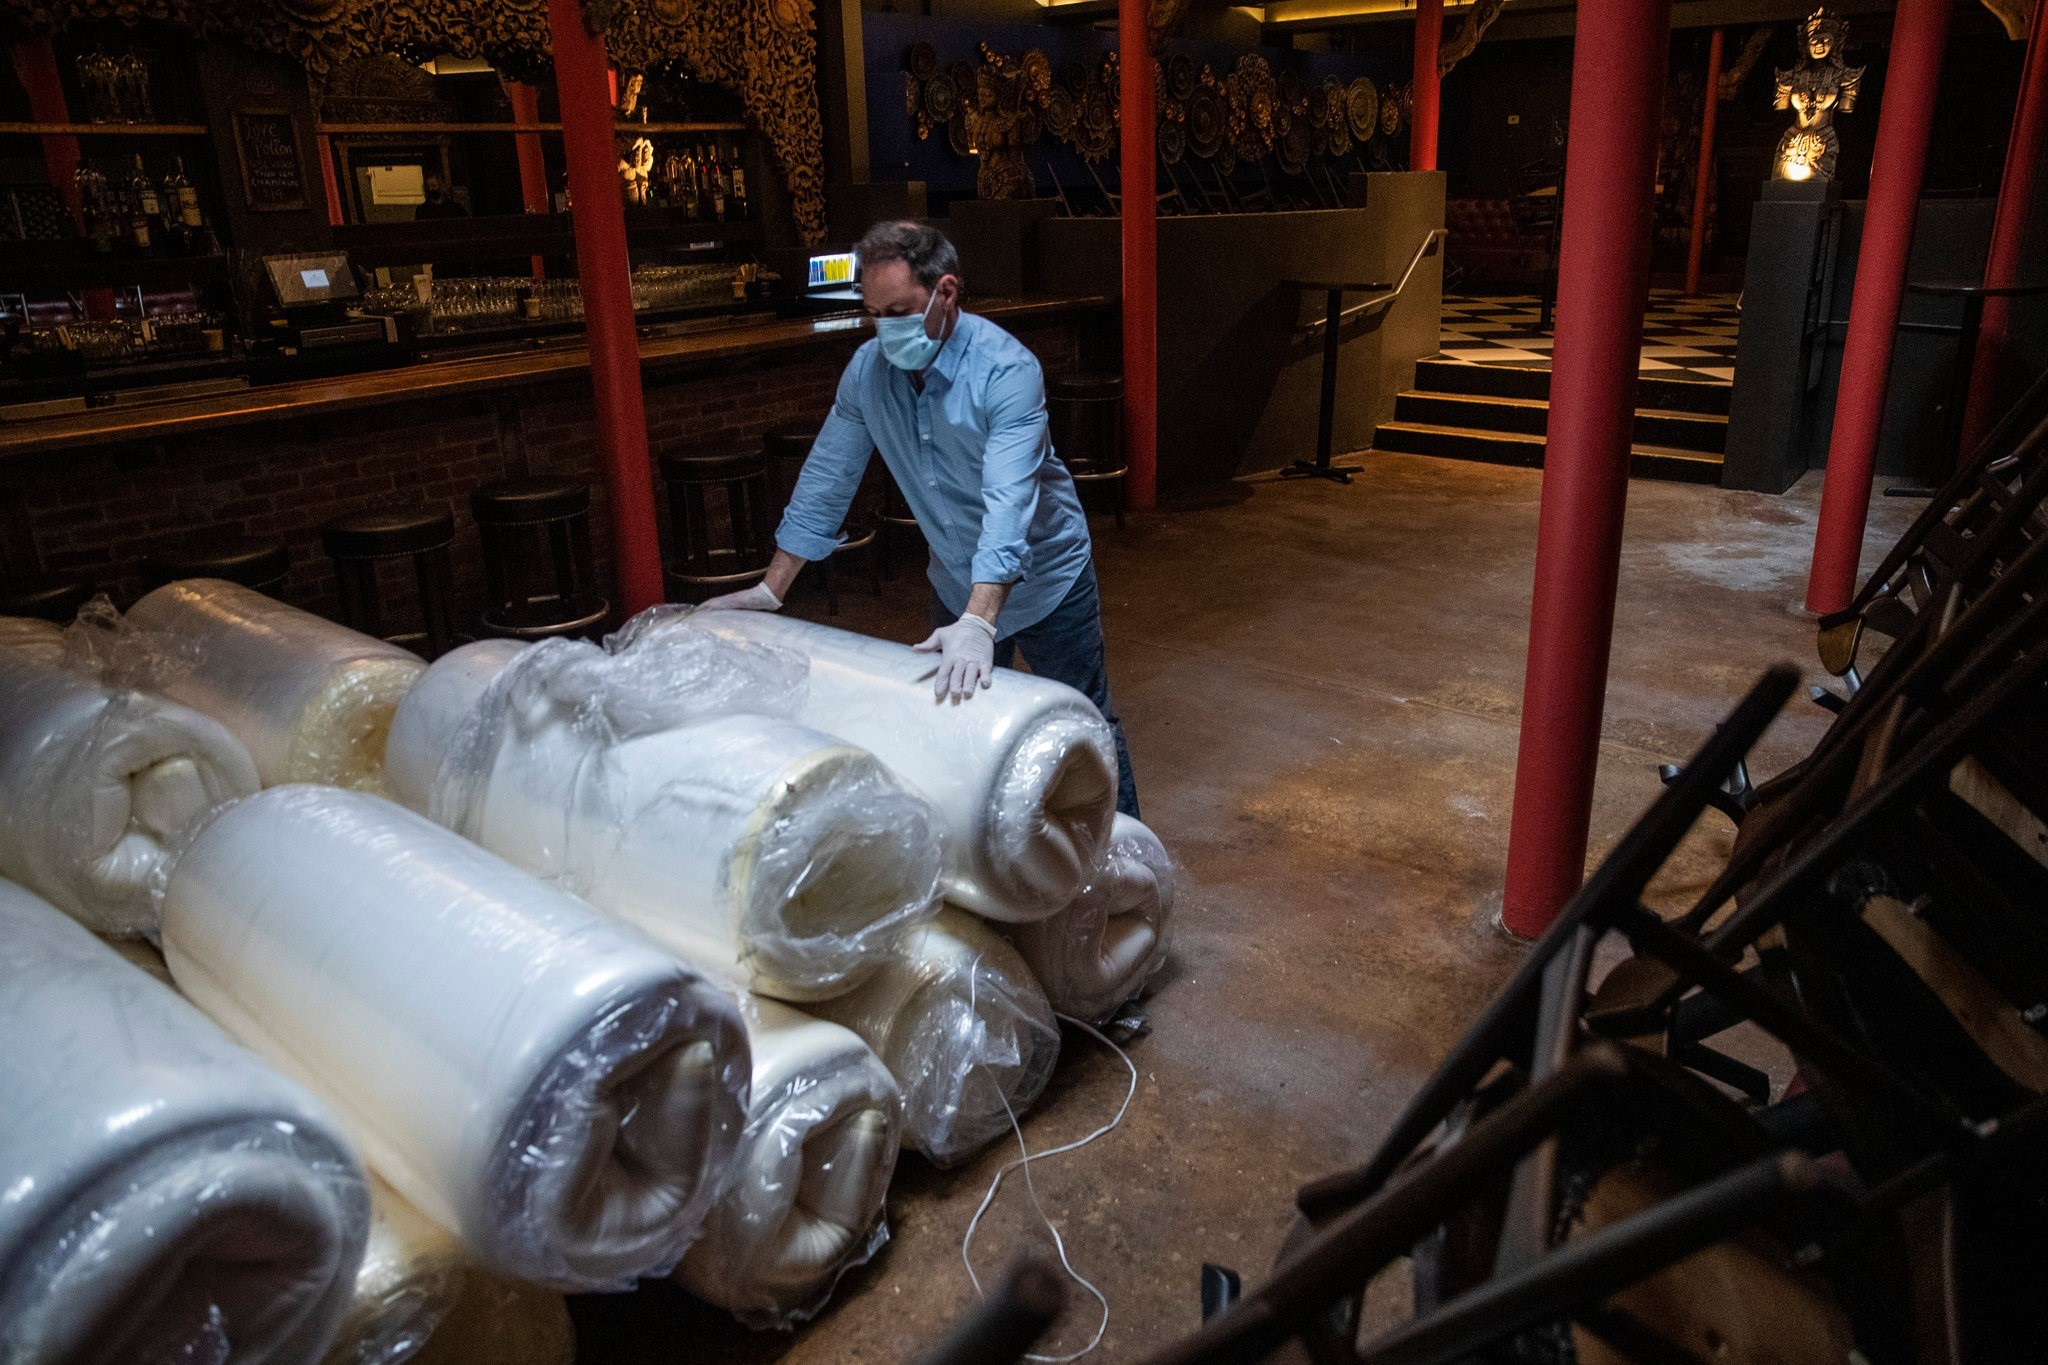face_with_mask: (859, 219, 959, 381)
